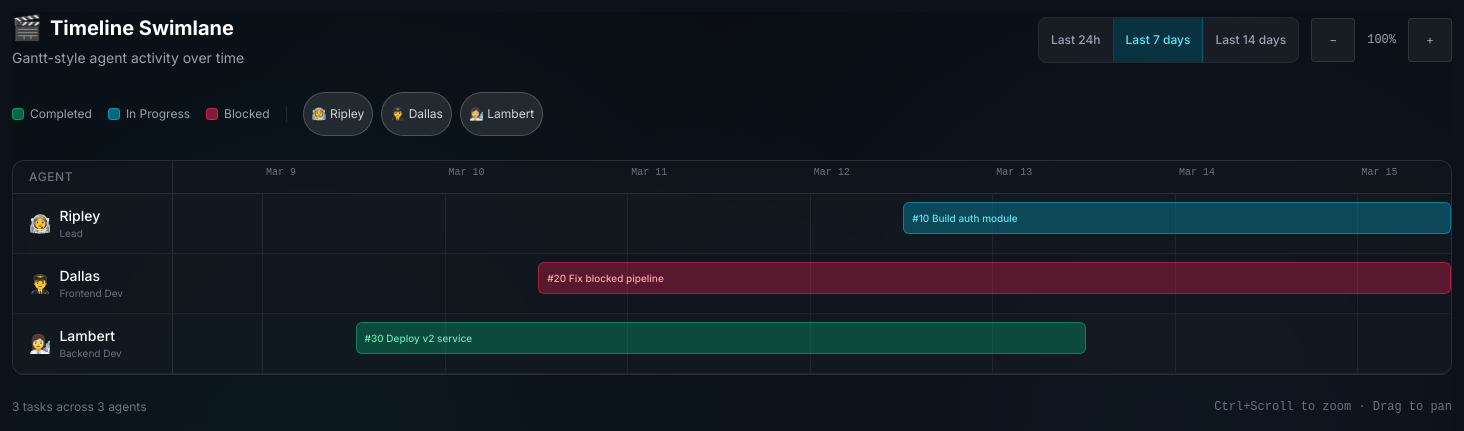
Test: TimelineSwimlane › hides tooltip on mouse leave
Hover over the element with class "cursor-pointer" showing "#10 Build auth module".
mouse_move(1177, 218)  # box [903,202,1451,234]
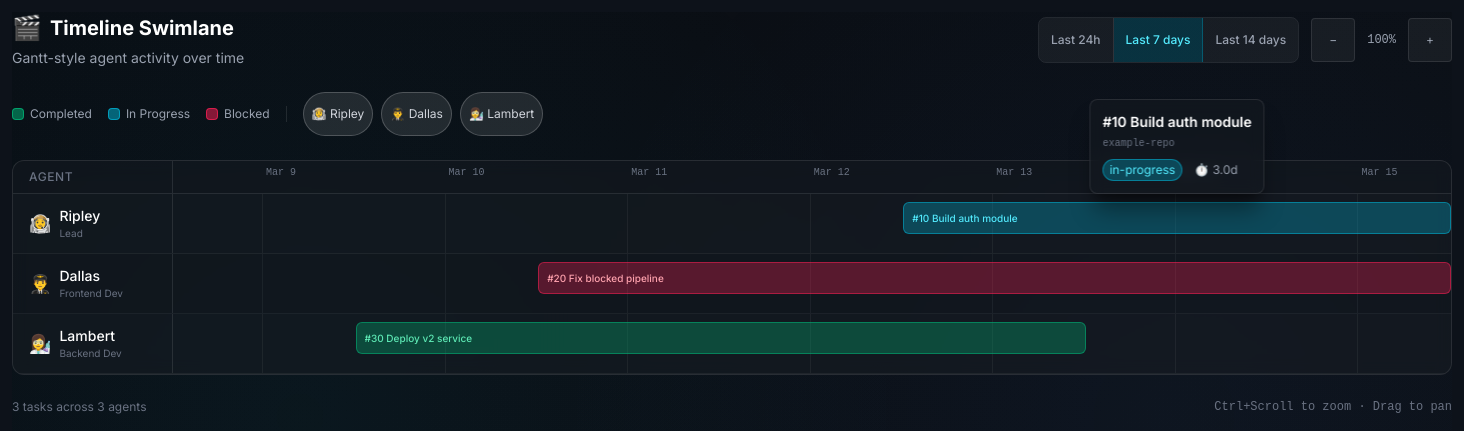
Check: the element with class "z-50" is shown, box [1090,99,1265,194]
Move the pointer off the element with class "cursor-pointer" showing "#10 Build auth module", box [903,202,1451,234]
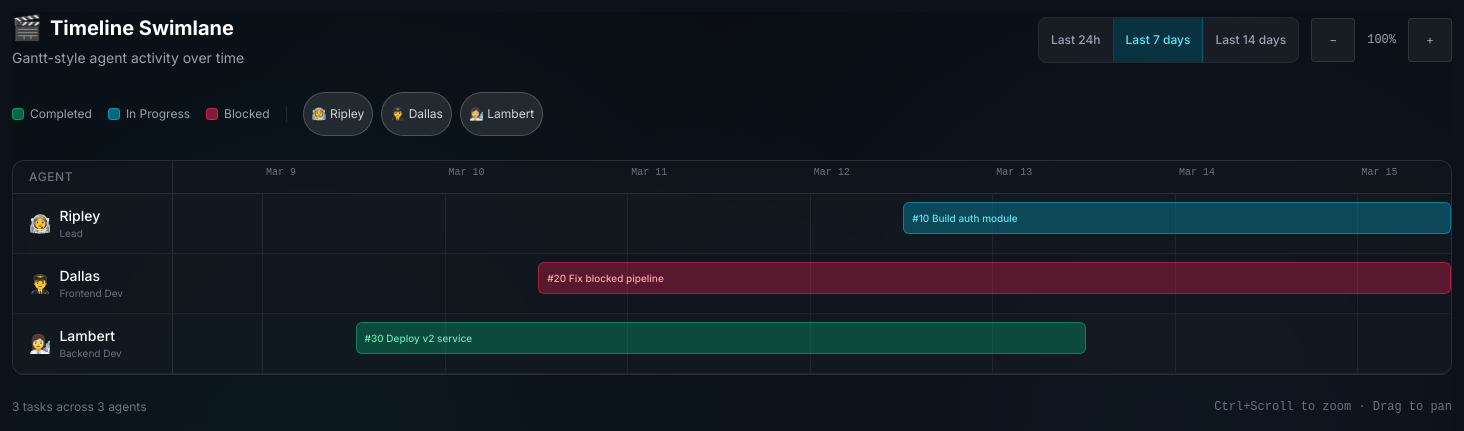
Check: the element with class "z-50" is gone
